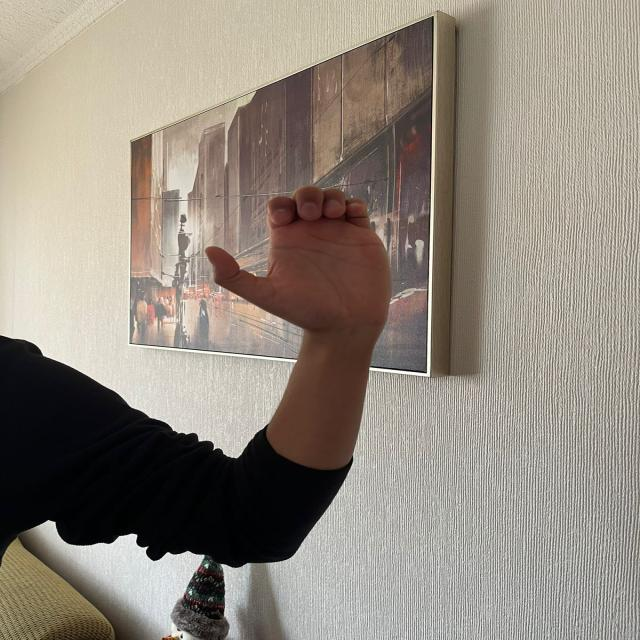E: (203, 181, 409, 336)
